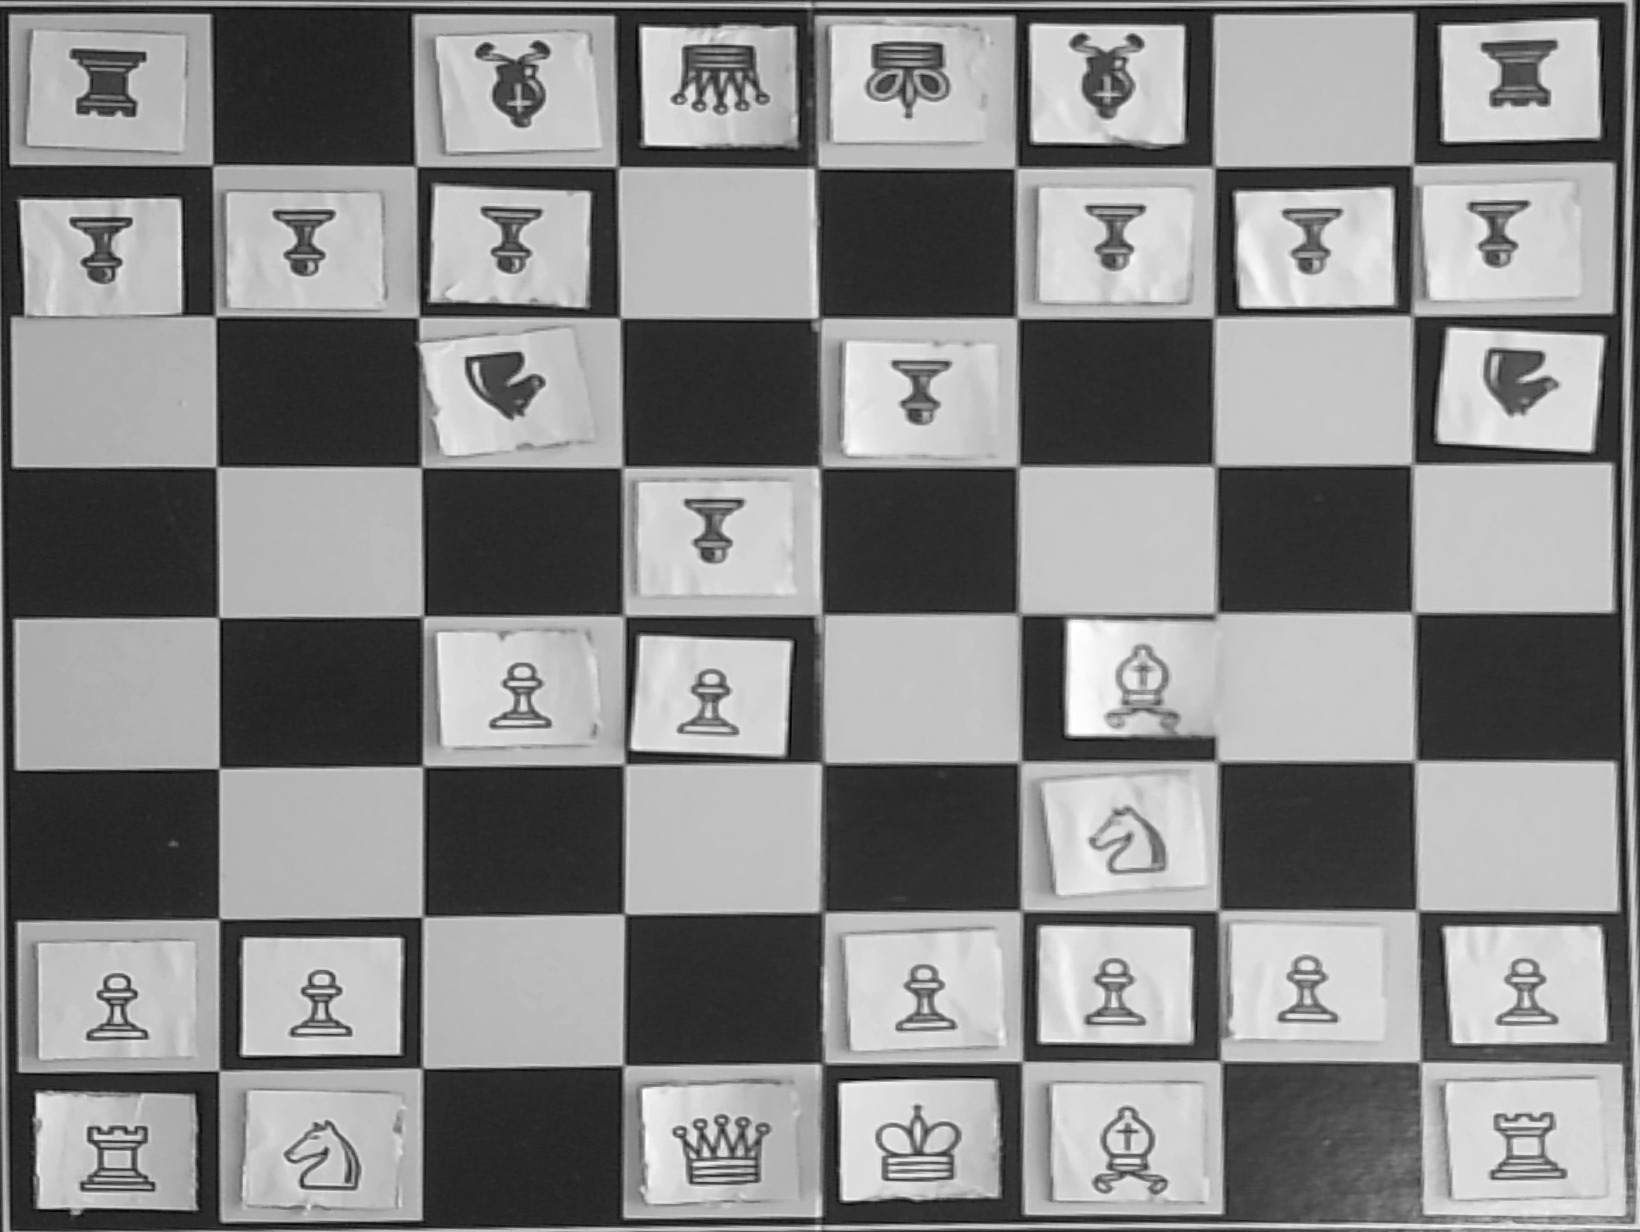b_bishop: (447, 38, 592, 148), (1047, 28, 1170, 126)
b_king: (843, 31, 968, 138)
b_knight: (443, 342, 564, 443), (1450, 336, 1571, 437)
b_pawn: (448, 195, 571, 300), (1048, 185, 1171, 290), (858, 348, 982, 452), (656, 490, 781, 594)
b_queen: (652, 28, 784, 132)
b_rook: (43, 38, 176, 138), (1456, 23, 1578, 124)
w_bishop: (1067, 1097, 1188, 1202), (1082, 630, 1202, 734)
w_king: (854, 1084, 977, 1194)
w_knight: (1067, 788, 1190, 886), (252, 1103, 377, 1200)
w_pawn: (453, 641, 575, 740), (1247, 934, 1368, 1034), (1056, 942, 1179, 1040), (60, 958, 183, 1055)
w_queen: (658, 1097, 786, 1198)
w_rook: (54, 1097, 173, 1204), (1470, 1090, 1590, 1194)
